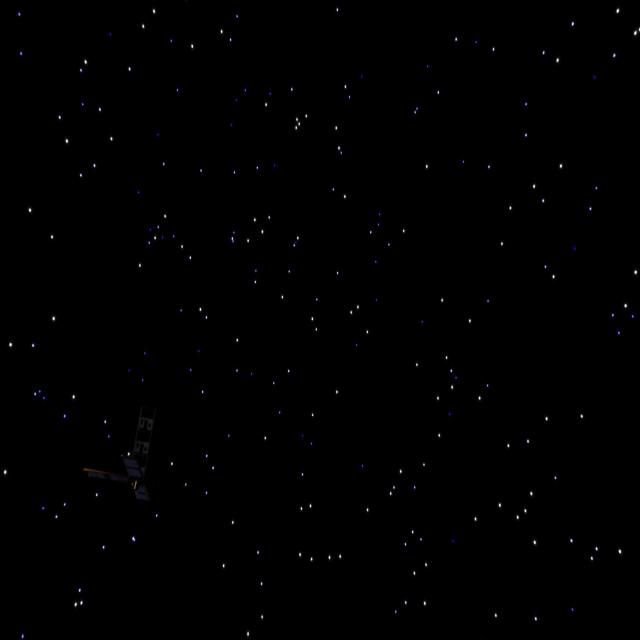satellite: (82, 399, 174, 514)
